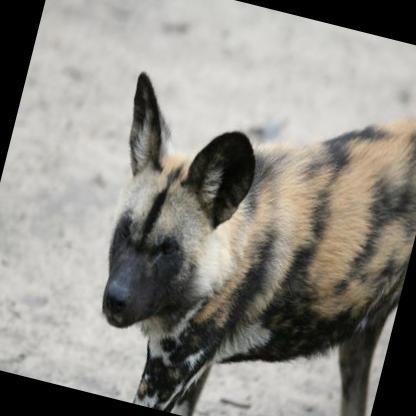African_hunting_dog: (60, 38, 416, 416)
